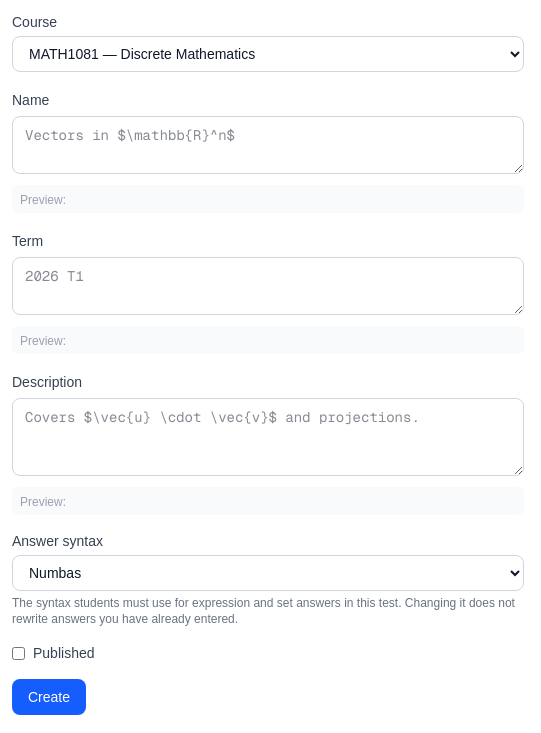
Test: TestForm › previews LaTeX in the name, term and description as KaTeX
The width and height of the screenshot is (541, 733).
Type "Vectors in $x^2$" into the text box labelled "Name" at (268, 145), box [12,116,524,174]
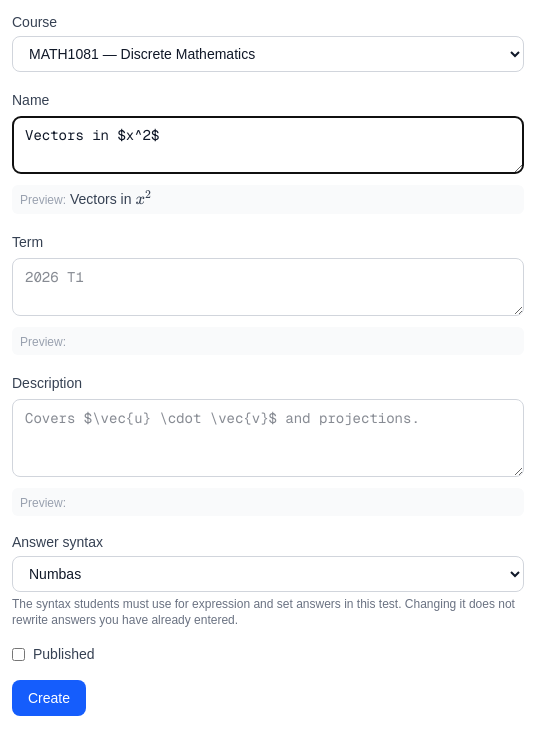
Check: the element with class "katex" is shown, box [135,189,152,209]
Check: the text "Vectors in" is shown, box [70,191,135,207]
